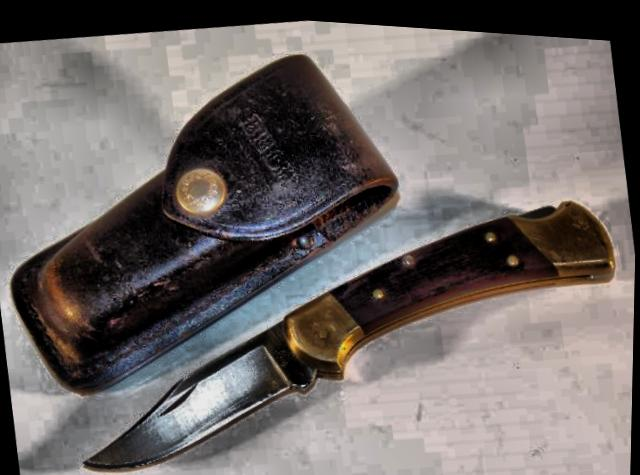knife: (50, 274, 382, 475)
